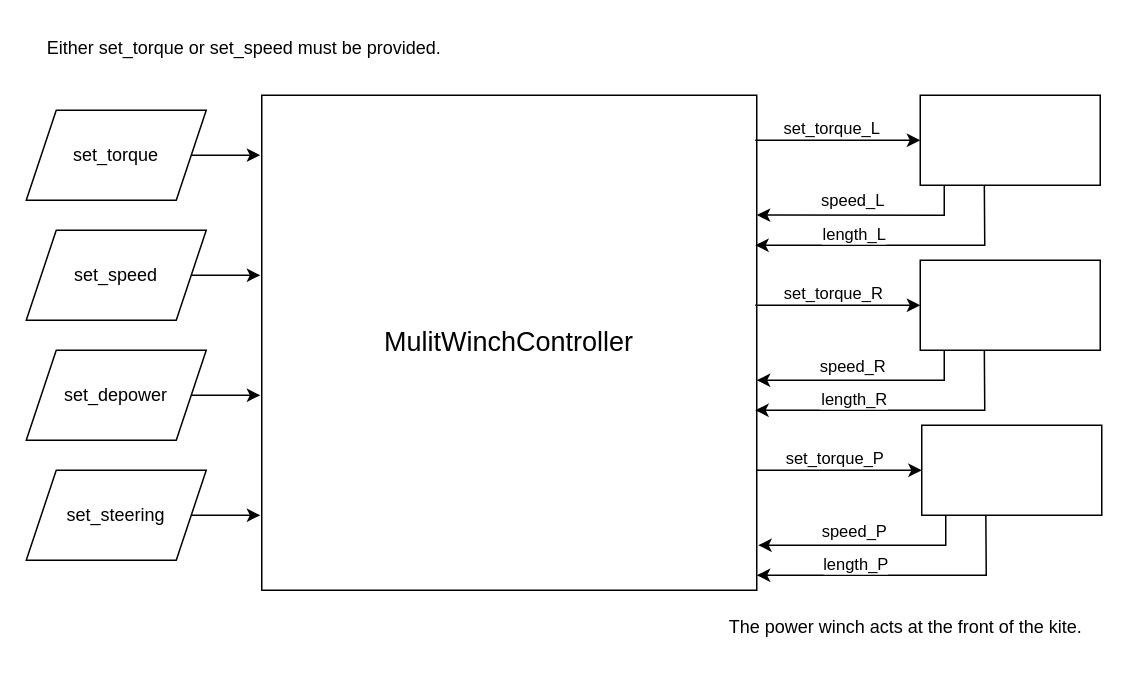
Image size: 1128x675. Some labels were removed from this diagram. Each missing label, with the centre of its shape:
"Winch_L" goes at (x=1009, y=139).
"Winch_P" goes at (x=1011, y=469).
"Winch_R" goes at (x=1009, y=304).
